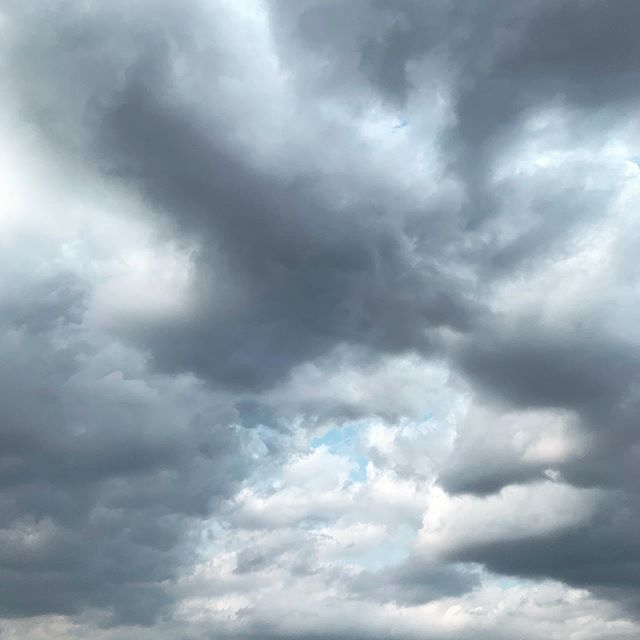sky: (1, 1, 640, 633)
